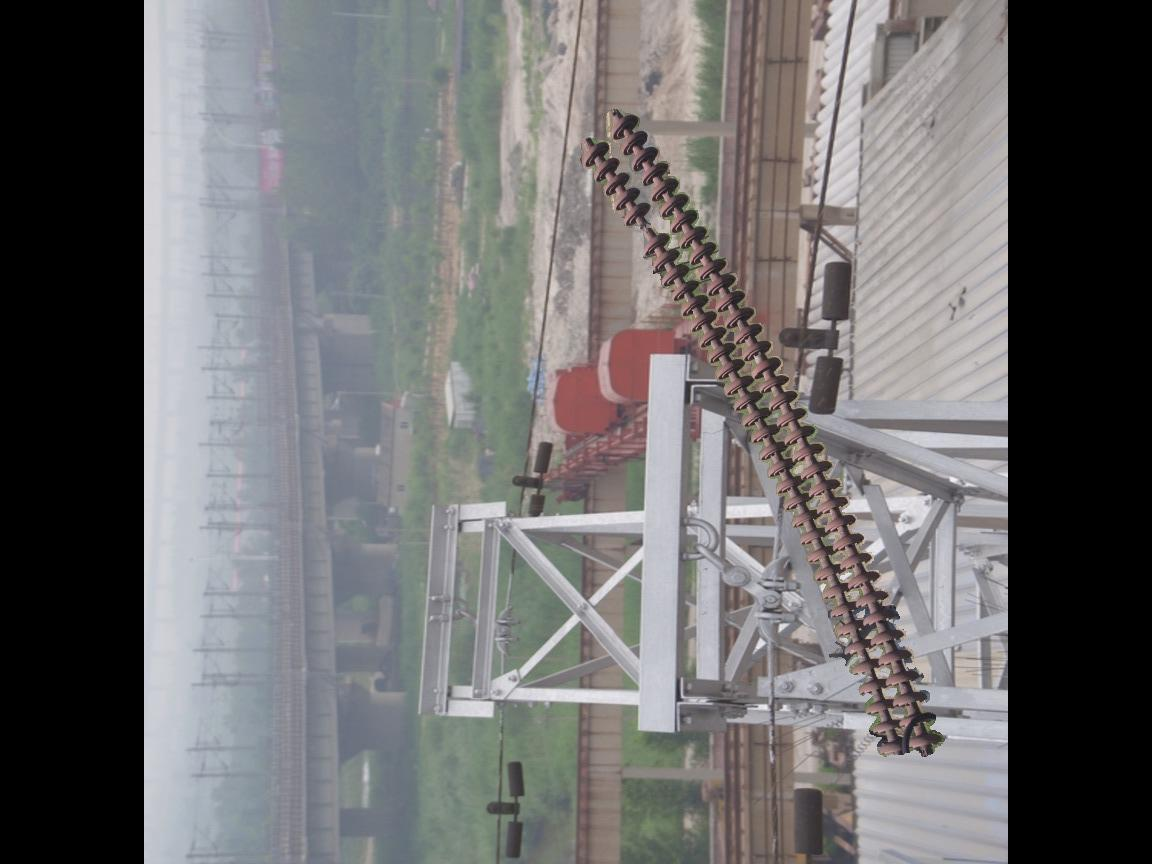insulator: (579, 107, 947, 764)
insulator_stringdrop: (620, 198, 673, 263)
